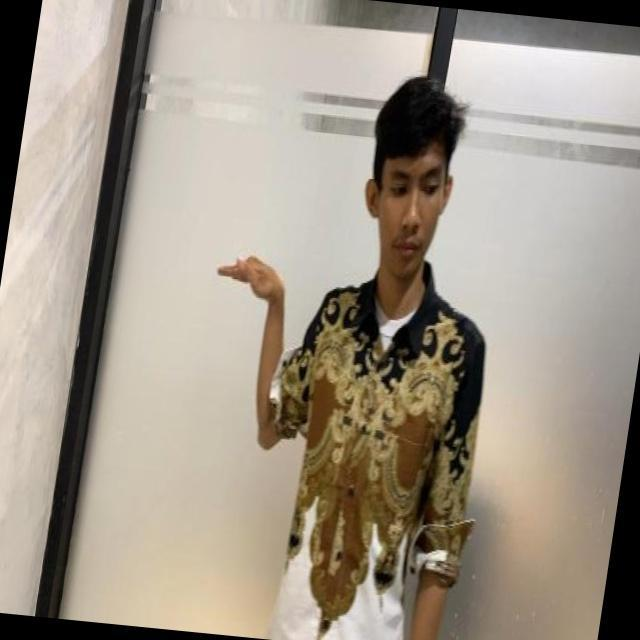Z: (194, 226, 312, 460)
